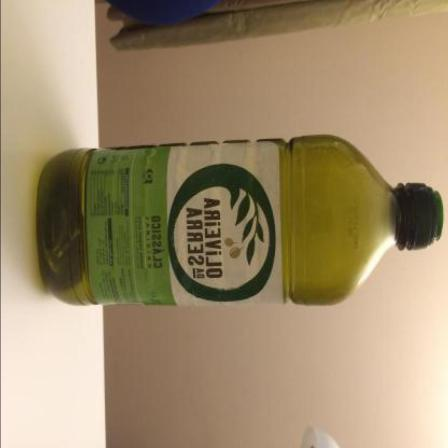Bottle: (37, 136, 445, 307)
